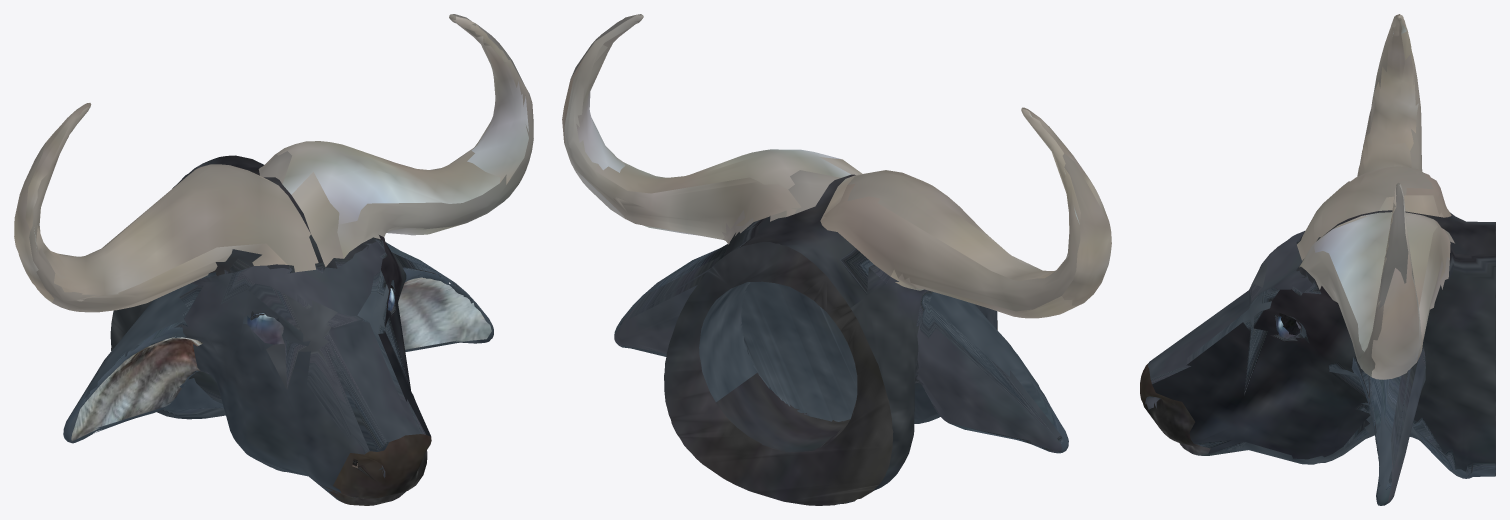
Rendered from water_buffalo.gltf.
The picture shows the model from 3 angles, left to right: view 1: azimuth 30°, elevation 25°; view 2: azimuth 150°, elevation 25°; view 3: azimuth 270°, elevation 25°; orthographic projection. The views are drawn at different scales.
Visible parts, largest first — view 1: water_buffalo; view 2: water_buffalo; view 3: water_buffalo.
Boxes of the visible parts, box(x1,y1,x2,y2) form: water_buffalo: box(14, 14, 533, 505); water_buffalo: box(562, 14, 1111, 505); water_buffalo: box(1140, 14, 1495, 505).
Bounding box in the file's own units: 10.19 × 7.26 × 6.49.
Materials: 1 (1 with a texture image).
